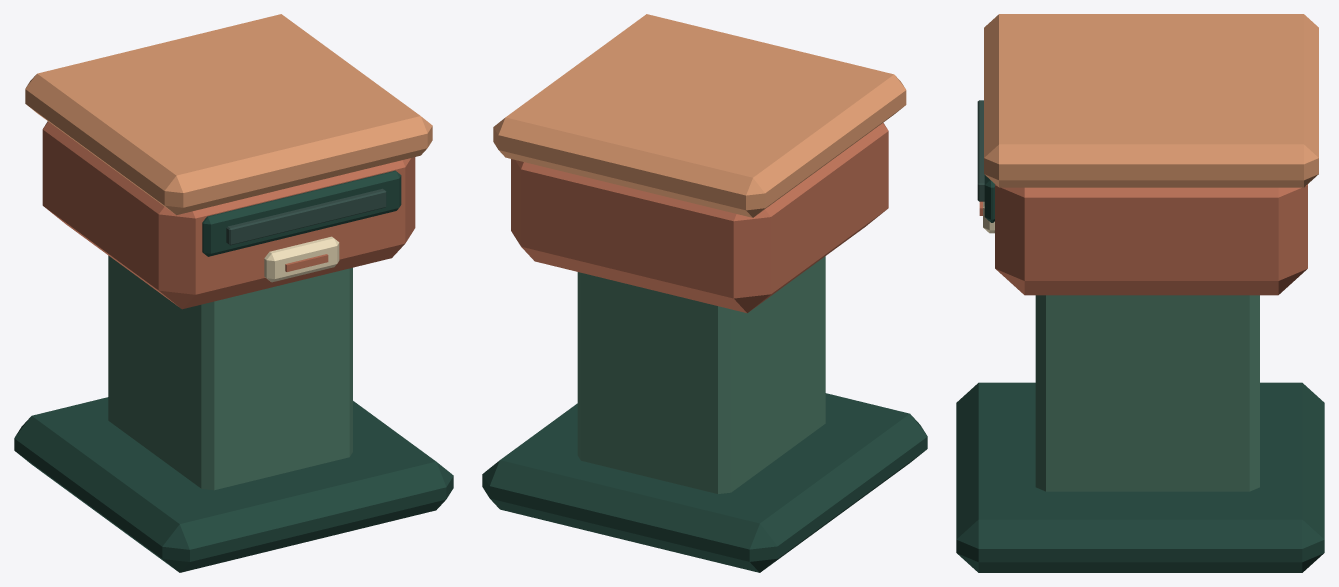
Rendered from mailbox.glb.
3 renders of one model, left to right at view 1: azimuth 30°, elevation 25°; view 2: azimuth 150°, elevation 25°; view 3: azimuth 270°, elevation 25°, orthographic. The views are drawn at different scales.
Parts seen in each view (by area): view 1: earth_light_Asset_mailbox, green_Asset_mailbox, deep_Asset_mailbox, earth_Asset_mailbox, outline_Asset_mailbox, cream_Asset_mailbox; view 2: earth_light_Asset_mailbox, green_Asset_mailbox, earth_Asset_mailbox, deep_Asset_mailbox; view 3: earth_light_Asset_mailbox, deep_Asset_mailbox, green_Asset_mailbox, earth_Asset_mailbox, outline_Asset_mailbox.
Part boxes in pixels (bbox=[...]): earth_light_Asset_mailbox: bbox=[25, 14, 432, 215]; green_Asset_mailbox: bbox=[108, 255, 352, 490]; deep_Asset_mailbox: bbox=[14, 170, 453, 572]; earth_Asset_mailbox: bbox=[42, 121, 415, 309]; outline_Asset_mailbox: bbox=[226, 188, 386, 245]; cream_Asset_mailbox: bbox=[264, 236, 339, 282]; earth_light_Asset_mailbox: bbox=[493, 14, 906, 217]; green_Asset_mailbox: bbox=[577, 256, 825, 493]; earth_Asset_mailbox: bbox=[511, 122, 888, 313]; deep_Asset_mailbox: bbox=[482, 393, 927, 572]; earth_light_Asset_mailbox: bbox=[984, 14, 1318, 187]; deep_Asset_mailbox: bbox=[956, 175, 1324, 572]; green_Asset_mailbox: bbox=[1035, 295, 1259, 491]; earth_Asset_mailbox: bbox=[979, 184, 1307, 295]; outline_Asset_mailbox: bbox=[977, 100, 984, 201].
Size of the model in its own units: 1 by 1.28 by 1.
